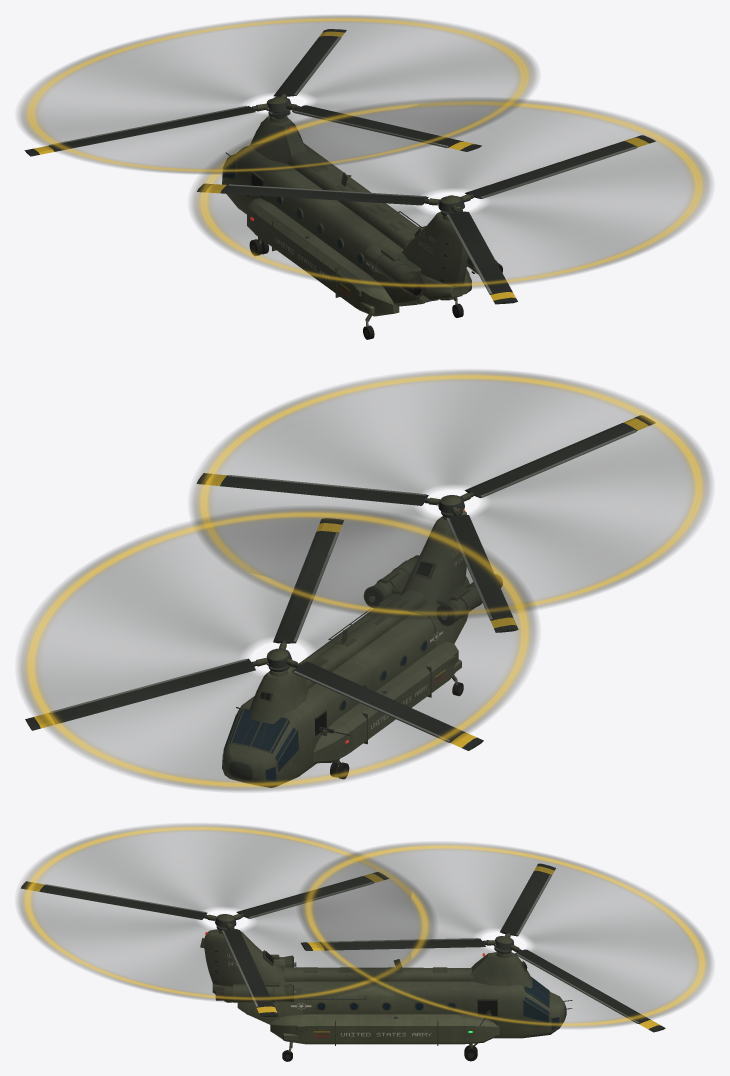
3 views of the same model, one above another, from view 1: azimuth 30°, elevation 25°; view 2: azimuth 150°, elevation 25°; view 3: azimuth 270°, elevation 25° (orthographic). The views are drawn at different scales.
Parts seen in each view (by area): view 1: RearRotorBlur, FrontRotorBlur, Fuselage, RearRotor, FrontRotor; view 2: FrontRotorBlur, RearRotorBlur, Fuselage, FrontRotor, RearRotor; view 3: FrontRotorBlur, RearRotorBlur, Fuselage, RearRotor, FrontRotor.
Part boxes in pixels (x1=…): RearRotorBlur: x1=191, y1=98, x2=711, y2=289; FrontRotorBlur: x1=18, y1=15, x2=537, y2=173; Fuselage: x1=222, y1=116, x2=502, y2=339; RearRotor: x1=197, y1=135, x2=655, y2=304; FrontRotor: x1=24, y1=29, x2=481, y2=156; FrontRotorBlur: x1=18, y1=507, x2=537, y2=791; RearRotorBlur: x1=191, y1=370, x2=711, y2=618; Fuselage: x1=222, y1=509, x2=502, y2=787; FrontRotor: x1=25, y1=518, x2=483, y2=750; RearRotor: x1=196, y1=415, x2=655, y2=632; FrontRotorBlur: x1=298, y1=842, x2=712, y2=1028; RearRotorBlur: x1=17, y1=824, x2=435, y2=1002; Fuselage: x1=200, y1=928, x2=572, y2=1061; RearRotor: x1=20, y1=872, x2=388, y2=1016; FrontRotor: x1=301, y1=863, x2=665, y2=1032.
Size of the model in its own units: 18.29 by 6.81 by 30.13.
20 materials, 5 textured.
